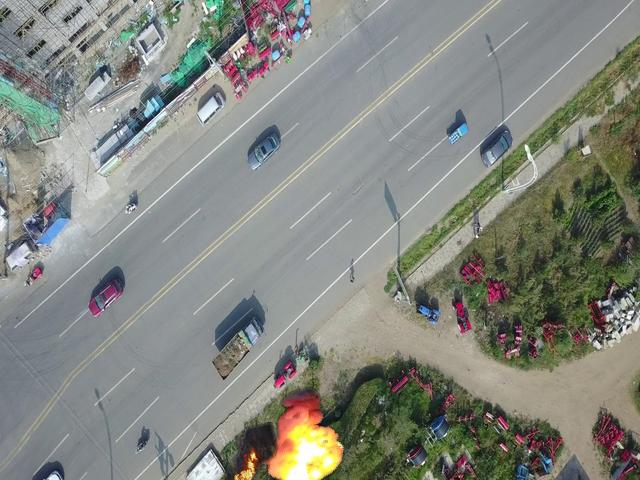fire: (235, 384, 346, 480), (224, 423, 277, 480)
